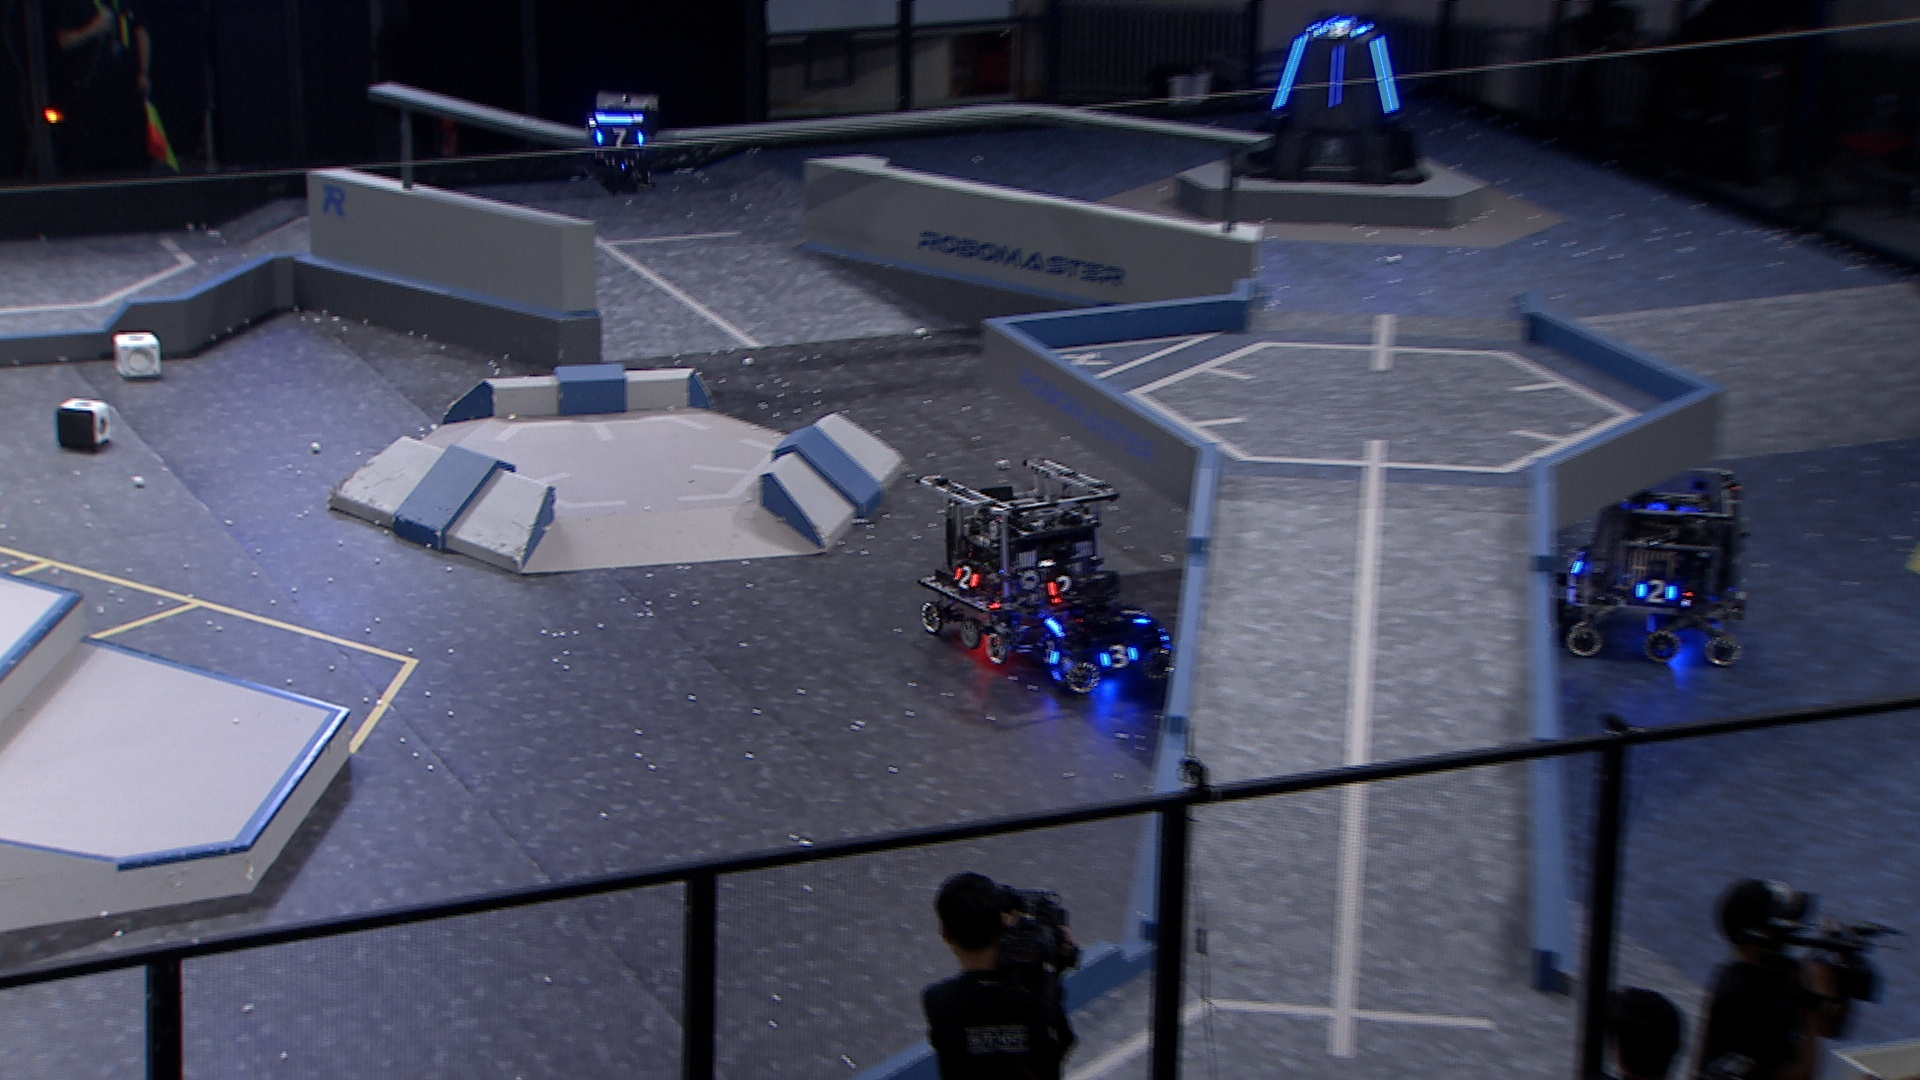armor: (1271, 33, 1309, 111), (1370, 36, 1403, 115), (1631, 579, 1680, 607), (589, 127, 646, 149), (1096, 645, 1143, 671), (1329, 45, 1346, 111), (1313, 18, 1364, 40), (1043, 574, 1077, 603), (949, 564, 986, 591), (1120, 605, 1155, 626), (1039, 641, 1064, 669)
base: (1225, 12, 1436, 185)
car: (913, 452, 1124, 670), (1557, 458, 1756, 669), (1025, 564, 1183, 699)
watcher: (582, 98, 666, 196)
